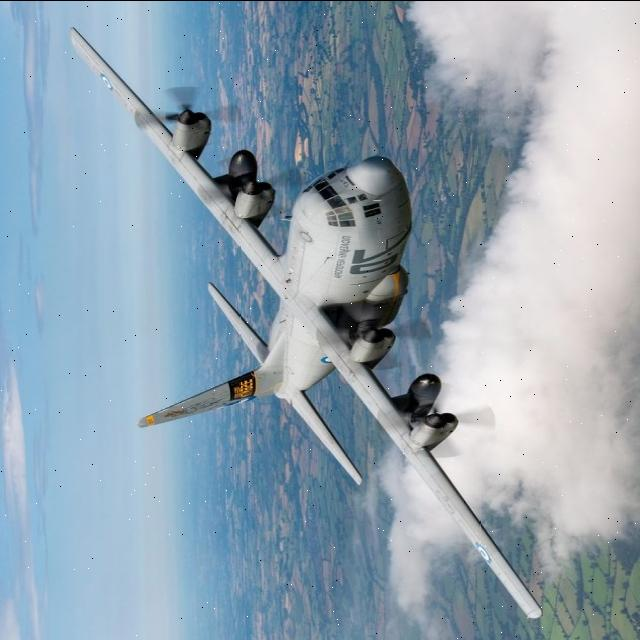C130: (34, 13, 560, 640)
